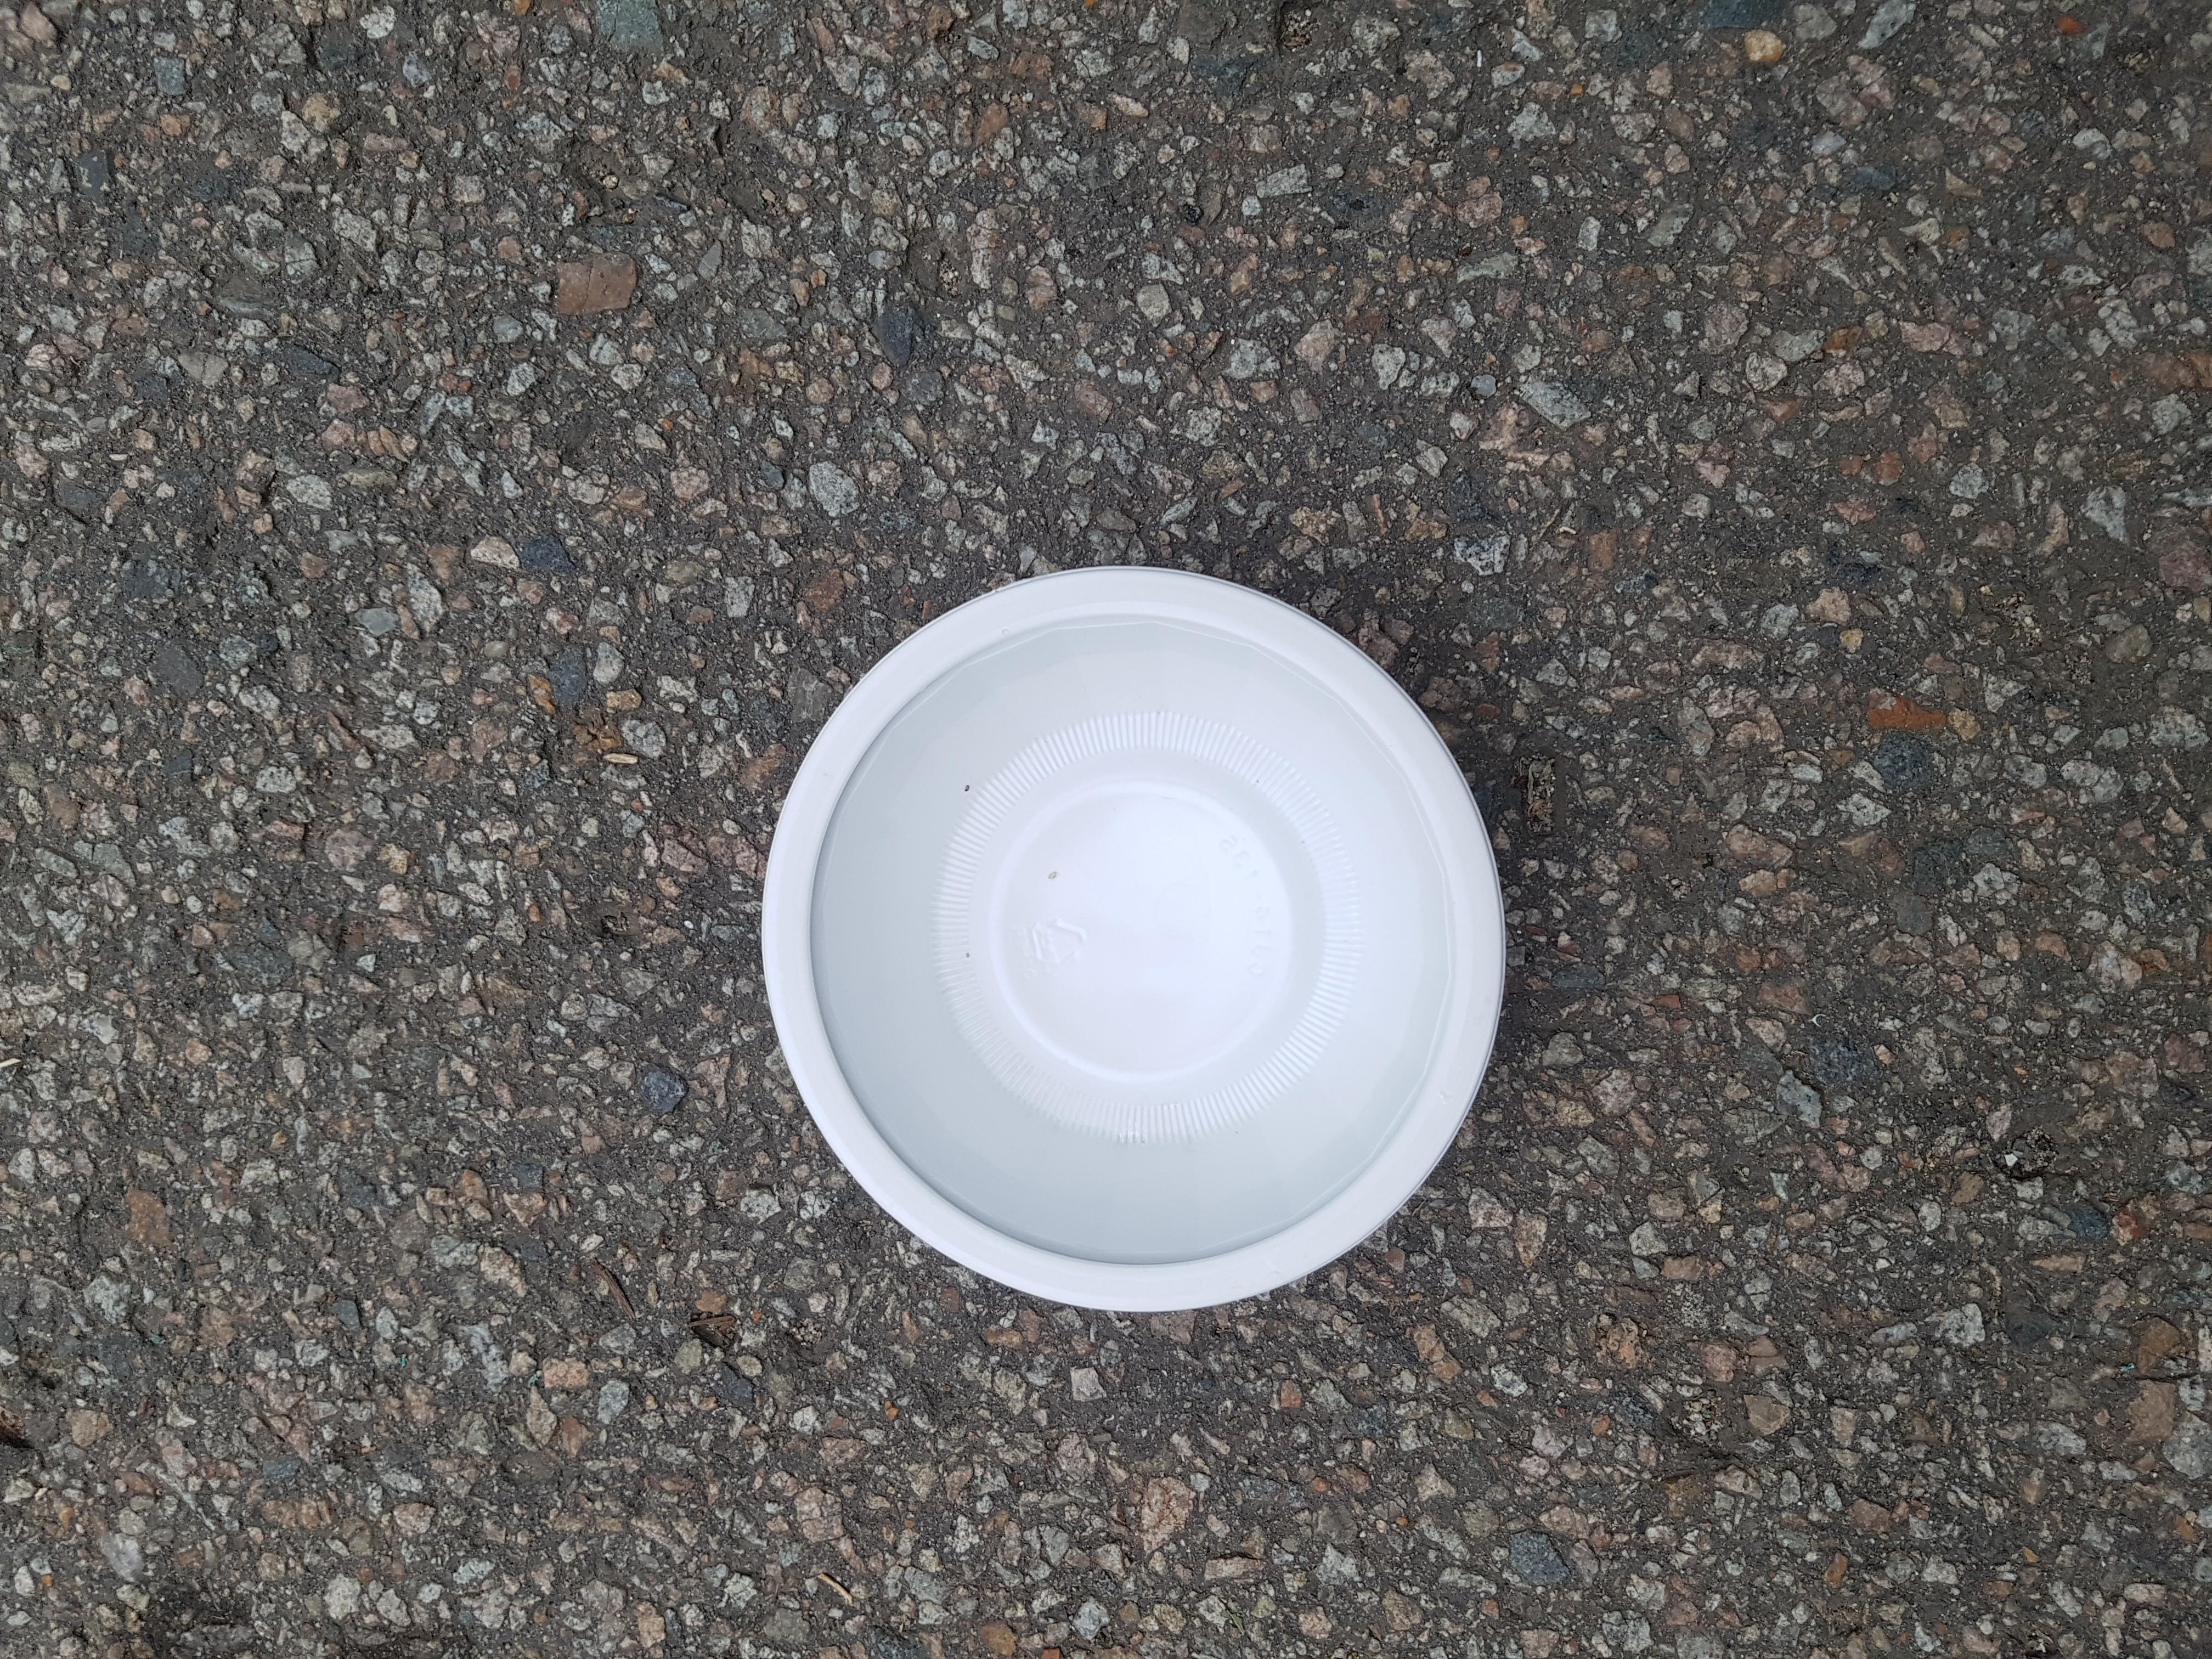bottle: (341, 556, 1519, 1134)
